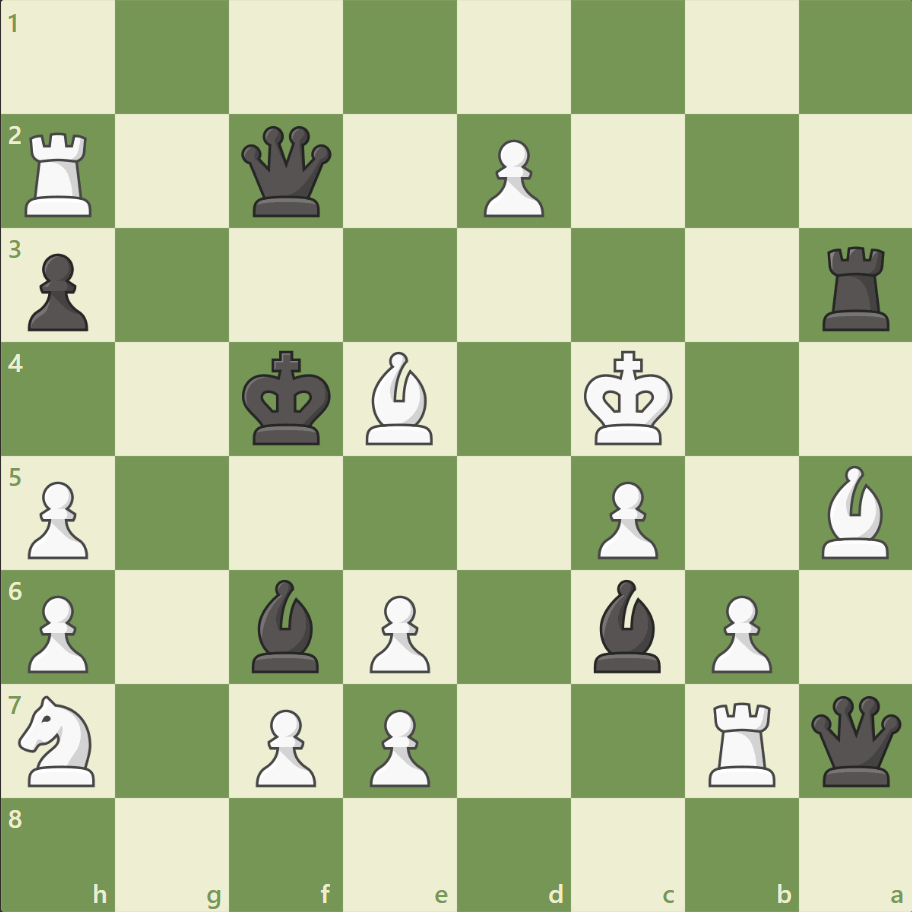B: (812, 460, 896, 563), (358, 347, 442, 449)
K: (579, 344, 679, 452)
N: (11, 688, 108, 791)
P: (247, 700, 322, 791), (701, 586, 776, 677), (20, 586, 95, 677), (20, 473, 95, 564), (474, 132, 549, 223), (361, 700, 435, 791), (361, 586, 435, 677), (588, 473, 662, 564)
R: (700, 693, 783, 790), (19, 125, 102, 222)
b: (585, 574, 669, 676), (244, 574, 328, 676)
k: (238, 344, 338, 452)
p: (20, 246, 95, 337)
q: (237, 122, 336, 222), (805, 690, 904, 789)
r: (814, 239, 897, 336)
